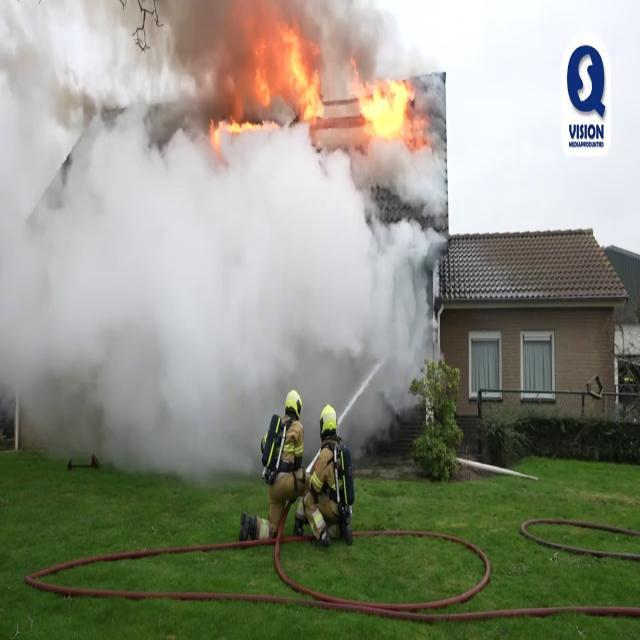Fire: (247, 2, 324, 128), (352, 70, 428, 150)
Smoke: (0, 0, 434, 444)
